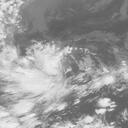cyclone: (31, 42, 87, 100)
